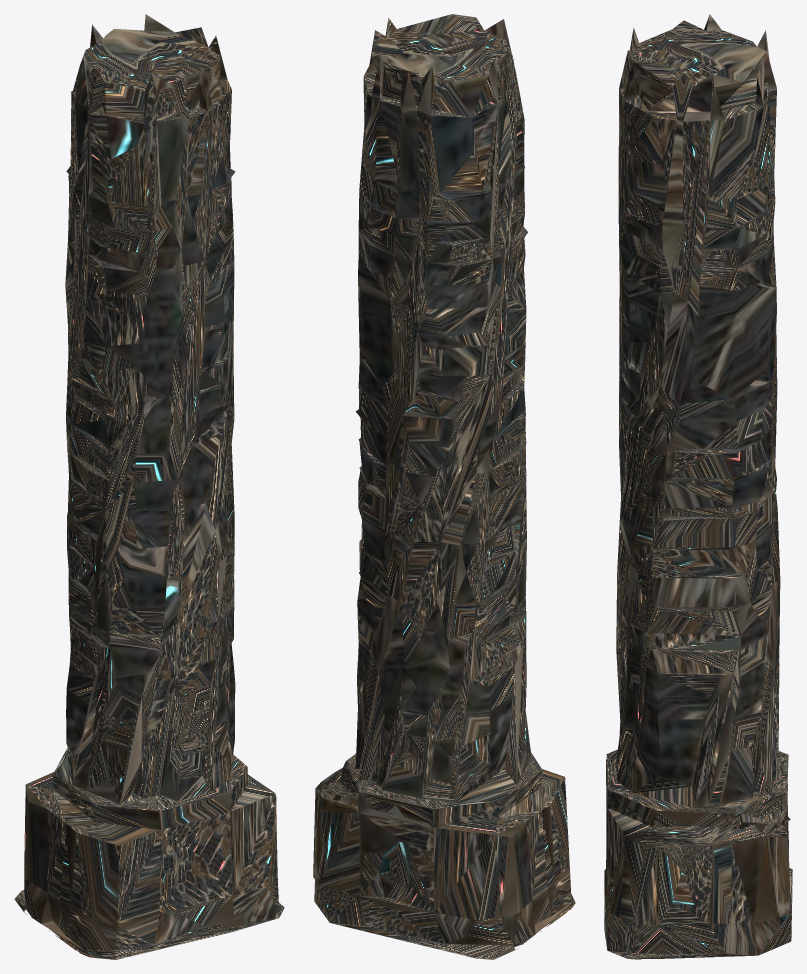
The model's file is t02_far.glb.
3 views of the same model, side by side, from view 1: azimuth 30°, elevation 25°; view 2: azimuth 150°, elevation 25°; view 3: azimuth 270°, elevation 25° (orthographic).
Parts seen in each view (by area): view 1: t02_far; view 2: t02_far; view 3: t02_far.
Boxes of the visible parts, left/top/right/bottom form: t02_far: left=14, top=14, right=284, bottom=959; t02_far: left=313, top=14, right=575, bottom=959; t02_far: left=604, top=14, right=792, bottom=959.
Size of the model in its own units: 46.17 by 190 by 37.33.
Materials: 1 (1 with a texture image).
